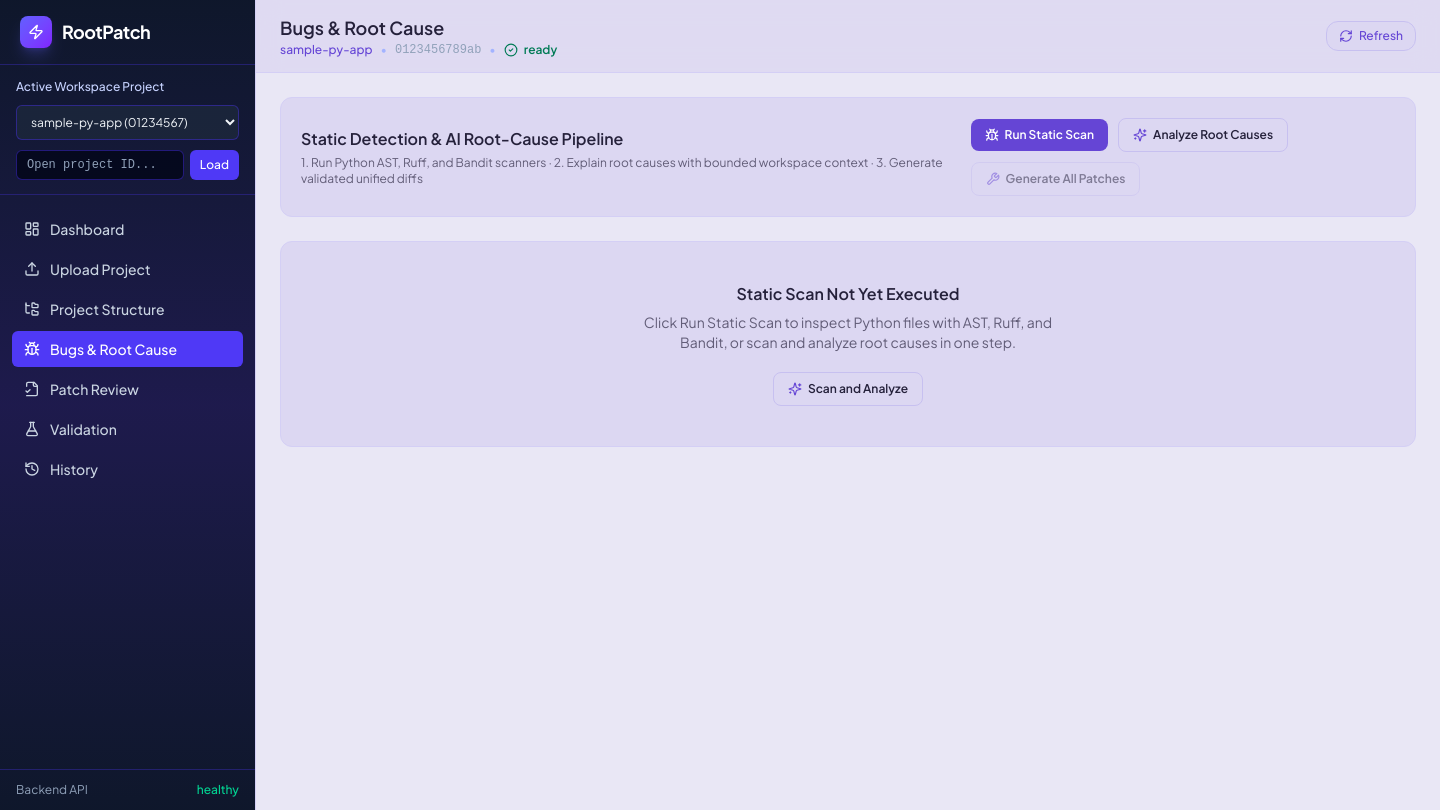
Test: API integration: status-gated optional resources › shows empty states for missing scan and patches instead of failing
Check: the heading "Static Scan Not Yet Executed" is shown, box [736, 283, 960, 304]
Check: the button "Scan and Analyze" is shown, box [773, 372, 923, 406]
Click the button "Patch Review". click: (128, 389)
box: [12, 371, 243, 407]
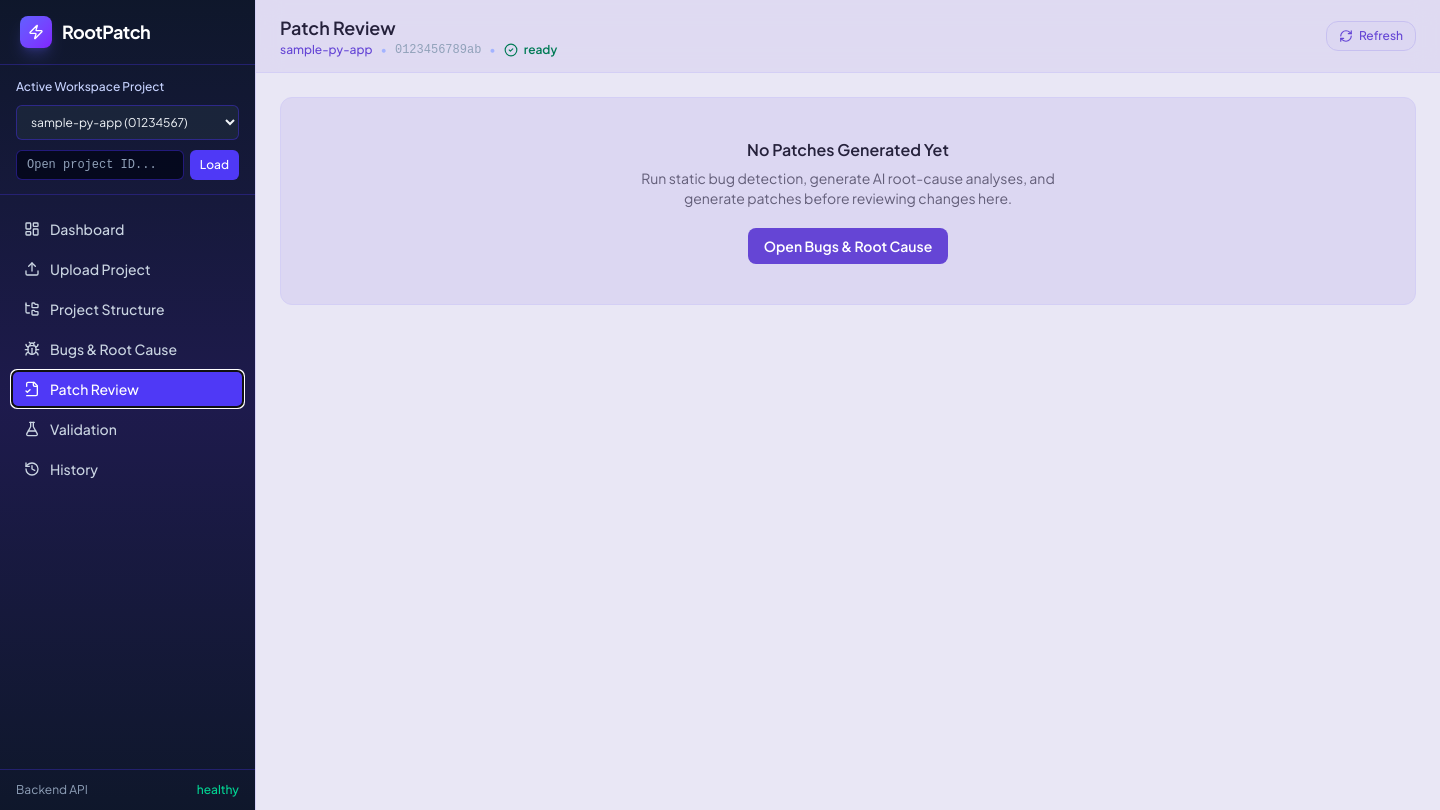
Check: the heading "No Patches Generated Yet" is shown, box [747, 139, 949, 160]
Check: the button "Open Bugs & Root Cause" is shown, box [748, 228, 948, 264]
